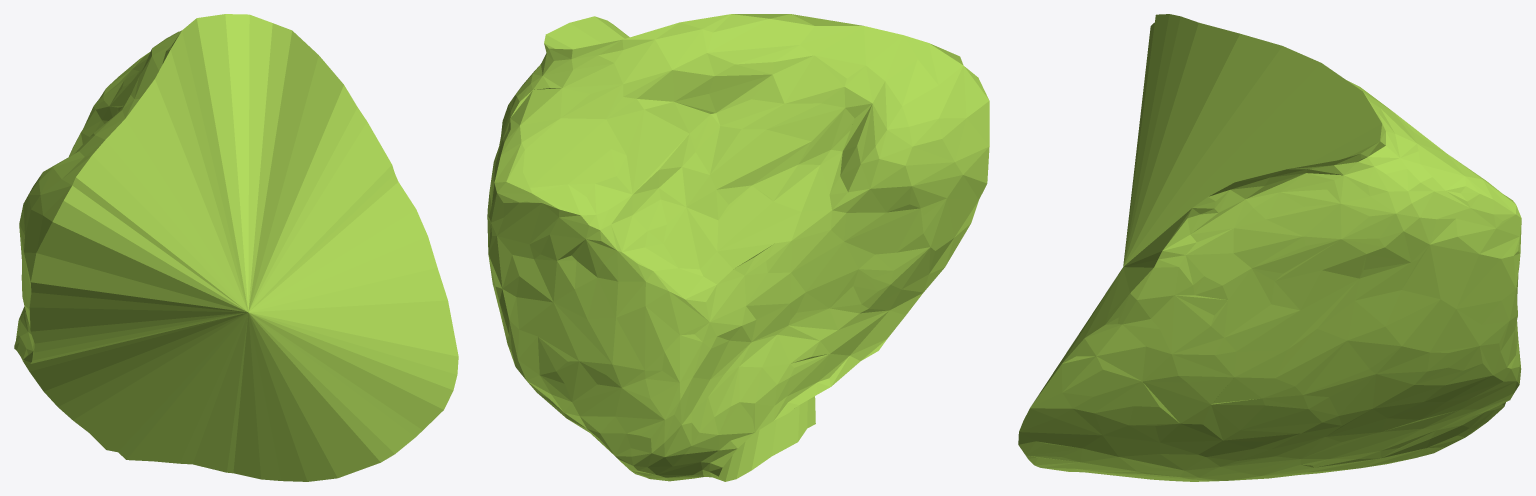
The model's file is Crown_23__Demo_Virtual_Patient.obj.
The picture shows the model from 3 angles, left to right: view 1: azimuth 30°, elevation 25°; view 2: azimuth 150°, elevation 25°; view 3: azimuth 270°, elevation 25°; orthographic projection. The views are drawn at different scales.
Bounding box in the file's own units: 8.17 × 8.35 × 9.24.
